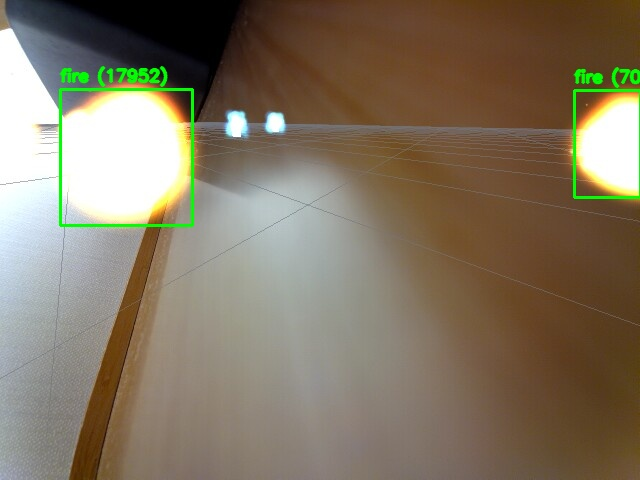fire: (60, 89, 192, 225), (574, 90, 640, 197)
